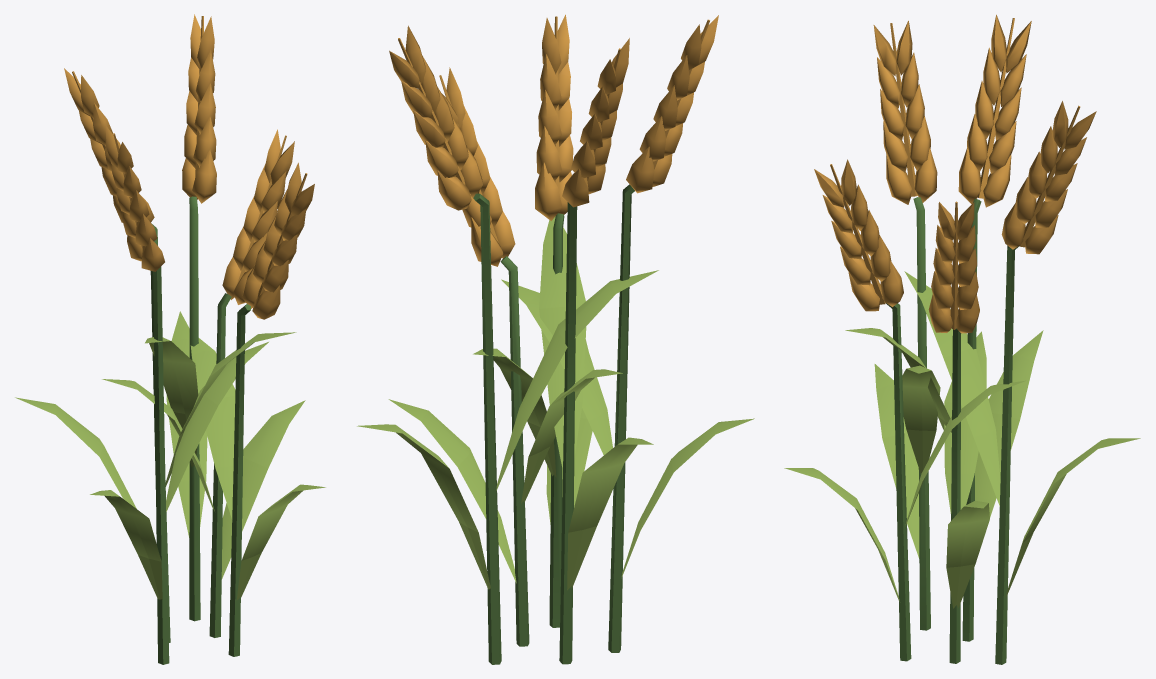
Rendered from crop_wheat_mature.glb.
3 renders of one model, left to right at view 1: azimuth 30°, elevation 25°; view 2: azimuth 150°, elevation 25°; view 3: azimuth 270°, elevation 25°, orthographic. The views are drawn at different scales.
Parts seen in each view (by area): view 1: wheat_leaf_0_0, wheat_head_0_grain, wheat_stalk_0; view 2: wheat_head_0_grain, wheat_leaf_0_0, wheat_stalk_0; view 3: wheat_head_0_grain, wheat_leaf_0_0, wheat_stalk_0.
Boxes of the visible parts, x1,y1,x2,y2 form: wheat_leaf_0_0: [15, 311, 325, 600]; wheat_head_0_grain: [64, 14, 314, 319]; wheat_stalk_0: [150, 196, 250, 664]; wheat_head_0_grain: [389, 14, 718, 266]; wheat_leaf_0_0: [357, 216, 754, 590]; wheat_stalk_0: [473, 184, 634, 664]; wheat_head_0_grain: [814, 14, 1096, 333]; wheat_leaf_0_0: [784, 271, 1140, 608]; wheat_stalk_0: [886, 197, 1019, 664].
Size of the model in its own units: 0.6265 by 1.28 by 0.7013.
